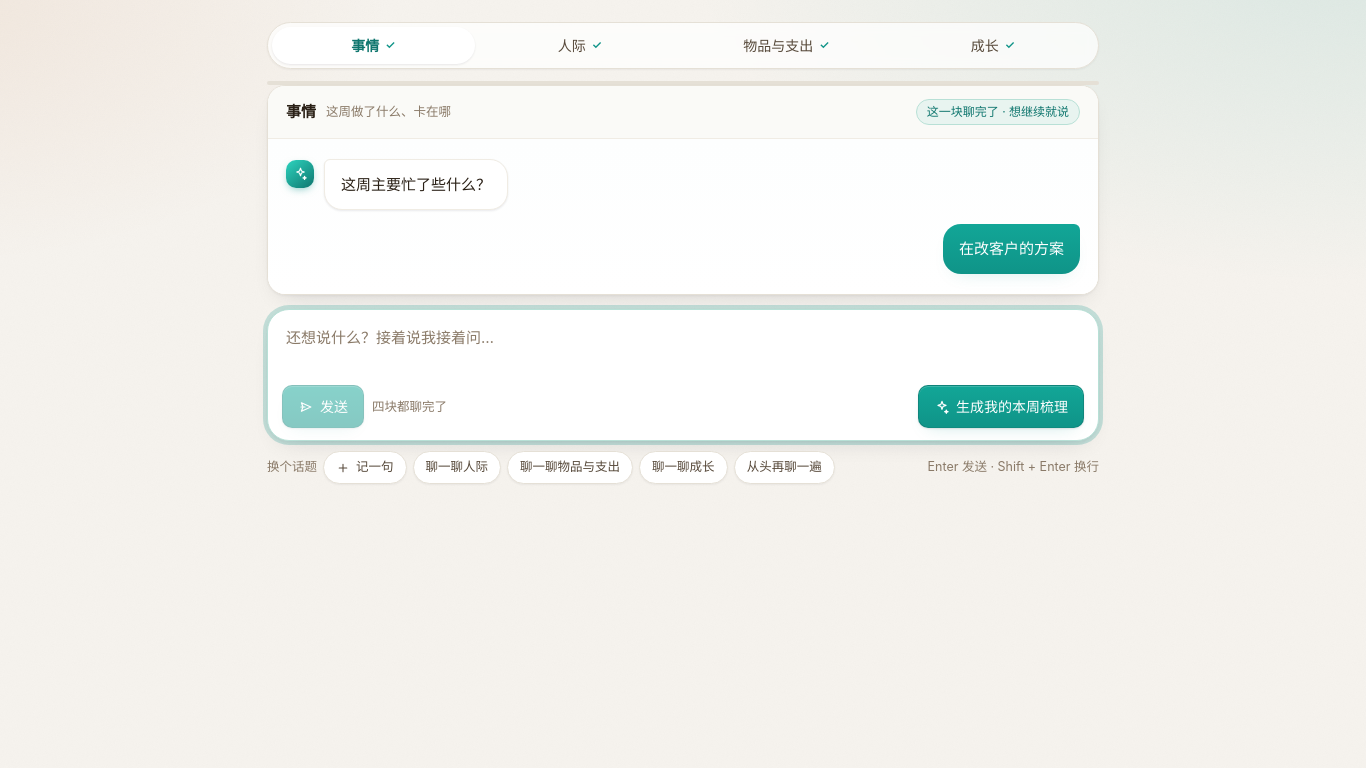
Scenario: 随心记 · 采访里的抽屉 › 聊完了四块，抽屉还能拉出来（这一周里随时能补记）
Step 1. Click the button "记一句" → (365, 468), box [323,452,406,484]
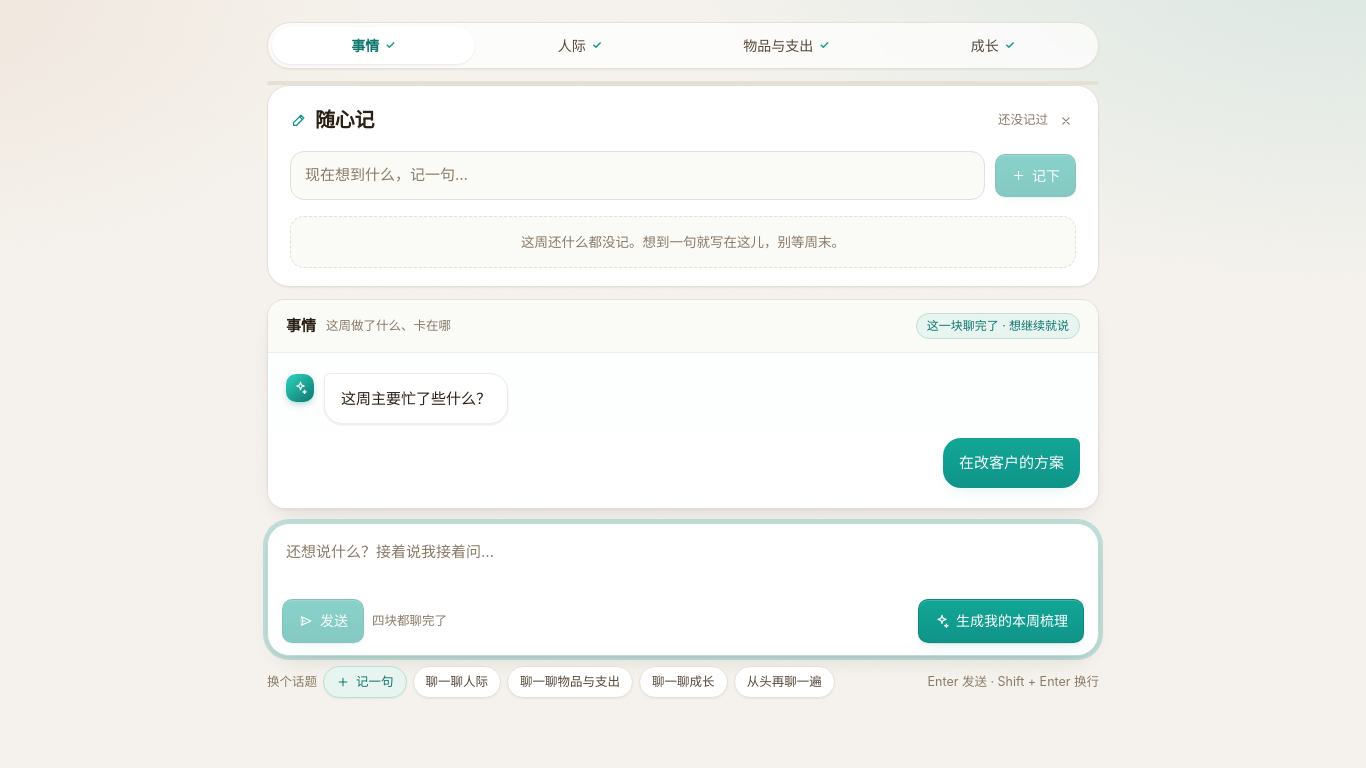
Expected: the element with class "notes-card" is shown, [267,85,1099,287]
